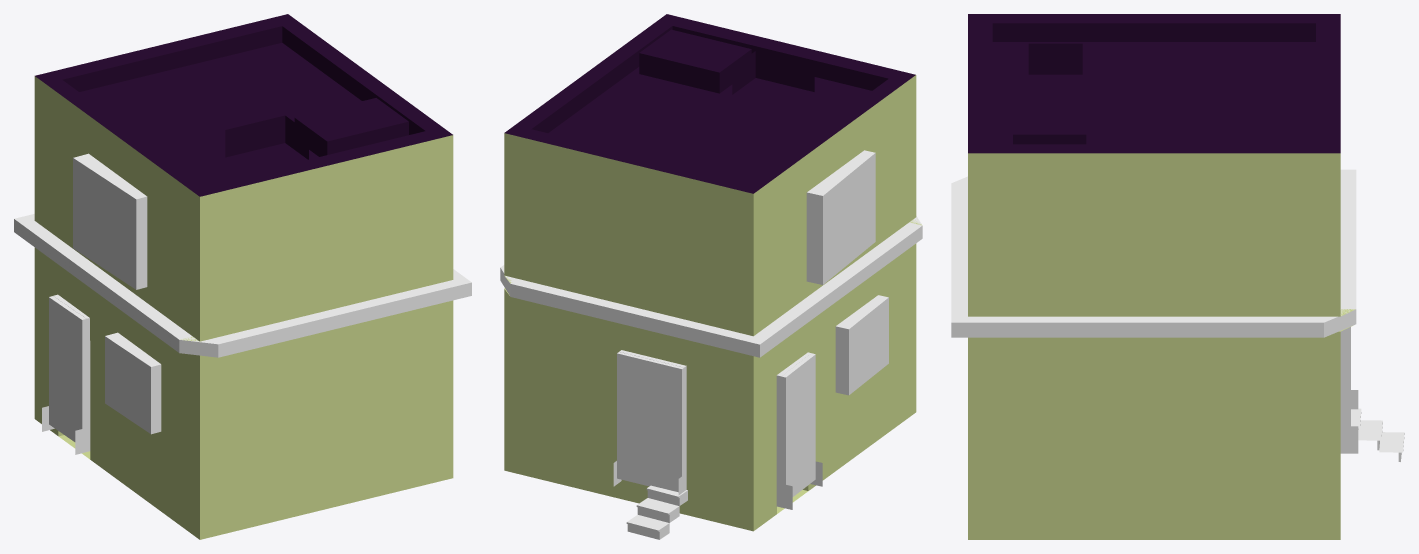
File: f50178fd-adcd-4a6c-9ba6-4f5f6cdc7c87.gltf
The picture shows the model from 3 angles, left to right: view 1: azimuth 30°, elevation 25°; view 2: azimuth 150°, elevation 25°; view 3: azimuth 270°, elevation 25°; orthographic projection. The views are drawn at different scales.
Visible parts, largest first — view 1: Cube, CTRL_Hole.002, CTRL_Hole, CTRL_Hole.001, DoorFrame, CTRL_Baseboard; view 2: Cube, CTRL_Hole.003, CTRL_Hole.002, CTRL_Hole, CTRL_Hole.001, Stairs, CTRL_Baseboard; view 3: Cube, Stairs, CTRL_Hole.003, CTRL_Baseboard.001, DoorFrame.001.
Boxes of the visible parts, <box> form: Cube: <box>14,14,471,539</box>; CTRL_Hole.002: <box>73,153,147,289</box>; CTRL_Hole: <box>49,296,90,446</box>; CTRL_Hole.001: <box>105,332,161,434</box>; DoorFrame: <box>53,294,90,445</box>; CTRL_Baseboard: <box>42,406,90,454</box>; Cube: <box>500,14,922,531</box>; CTRL_Hole.003: <box>617,352,686,492</box>; CTRL_Hole.002: <box>806,150,875,284</box>; CTRL_Hole: <box>776,353,815,496</box>; CTRL_Hole.001: <box>835,295,888,395</box>; Stairs: <box>626,485,687,539</box>; CTRL_Baseboard: <box>776,461,822,509</box>; Cube: <box>951,14,1356,539</box>; Stairs: <box>1351,408,1404,461</box>; CTRL_Hole.003: <box>1340,327,1350,442</box>; CTRL_Baseboard.001: <box>1340,390,1358,453</box>; DoorFrame.001: <box>1340,329,1346,441</box>.
Size of the model in its own units: 26.03 by 31.83 by 32.28.
